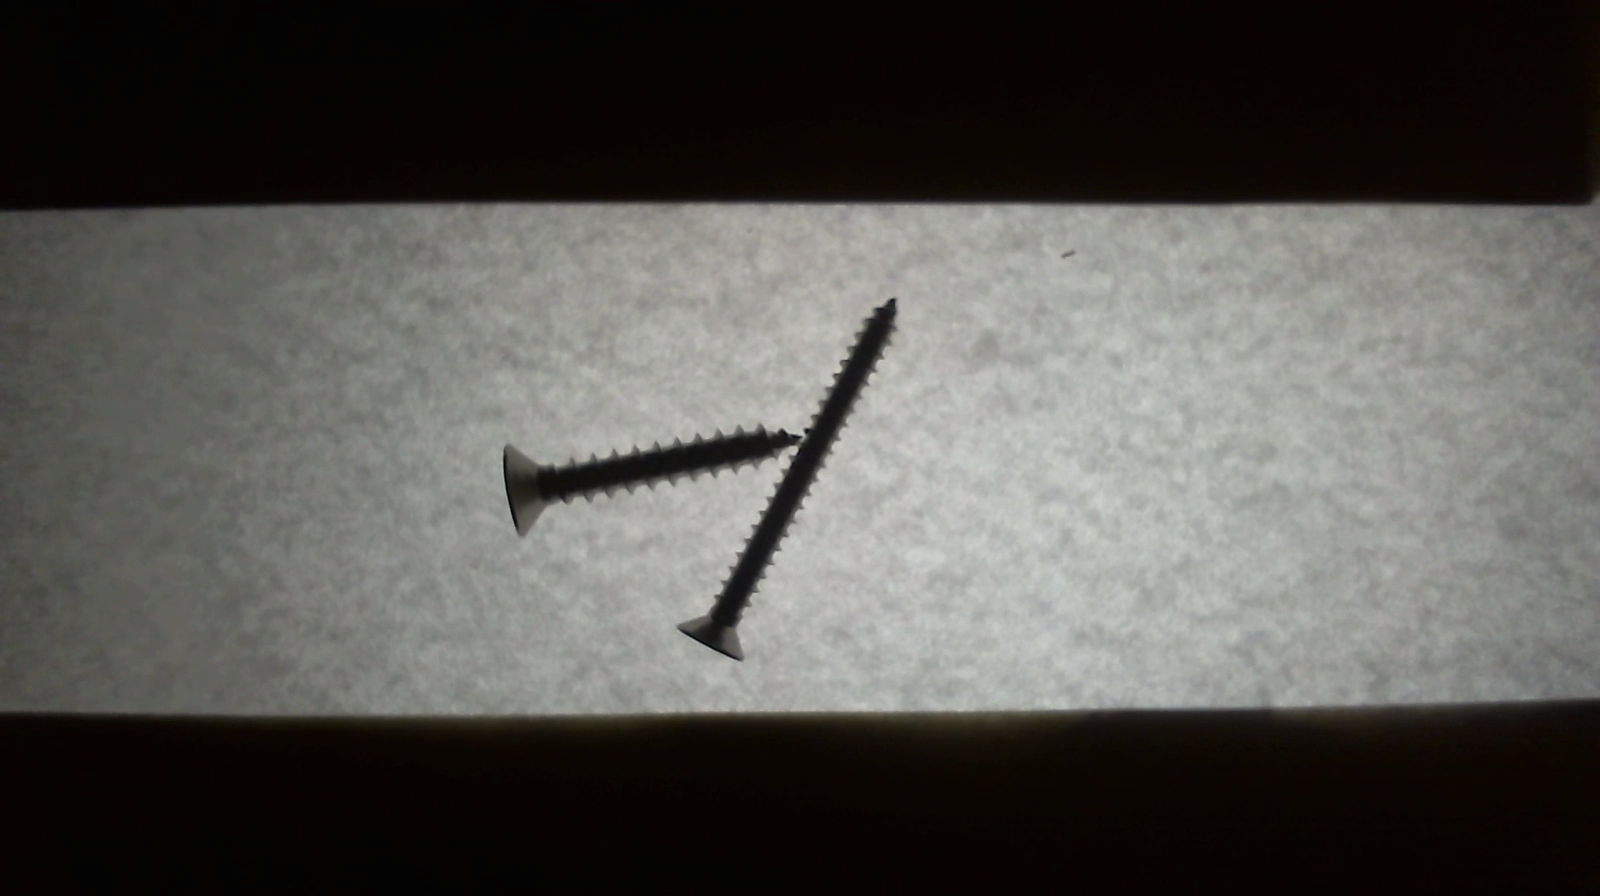S001: (486, 416, 816, 542)
S002: (668, 290, 912, 667)
